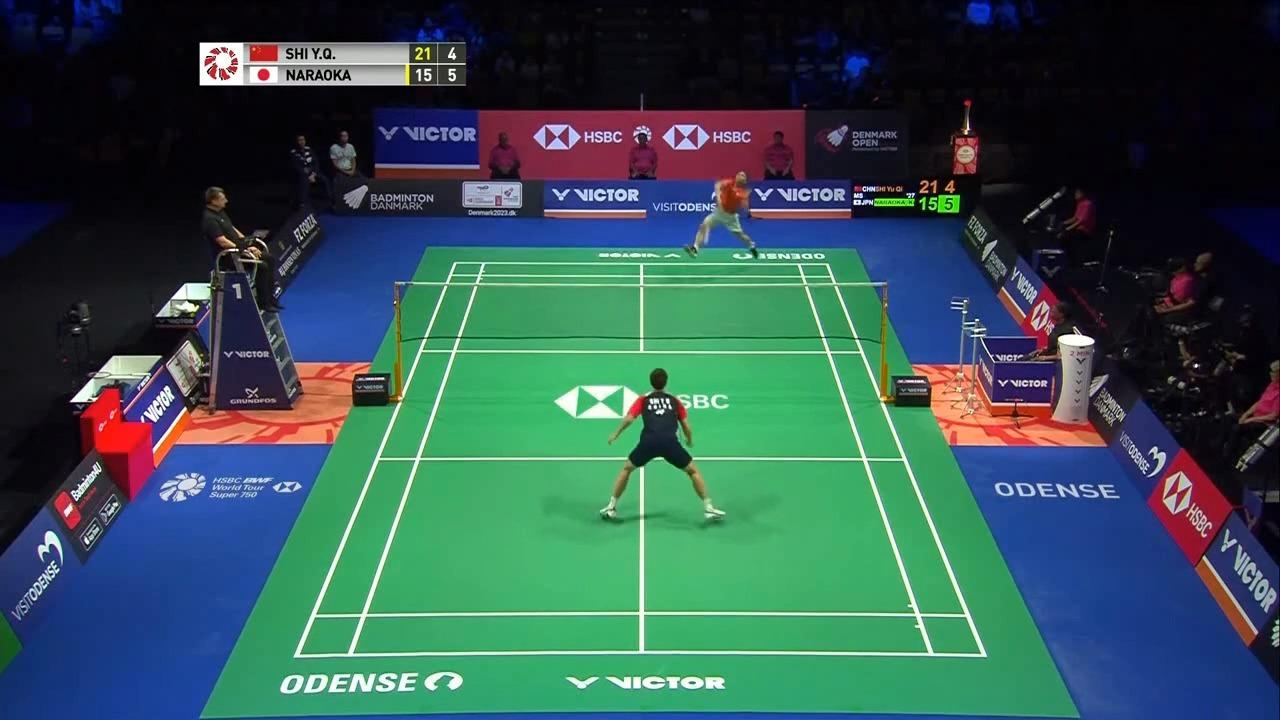shuttle: (709, 189, 718, 199)
